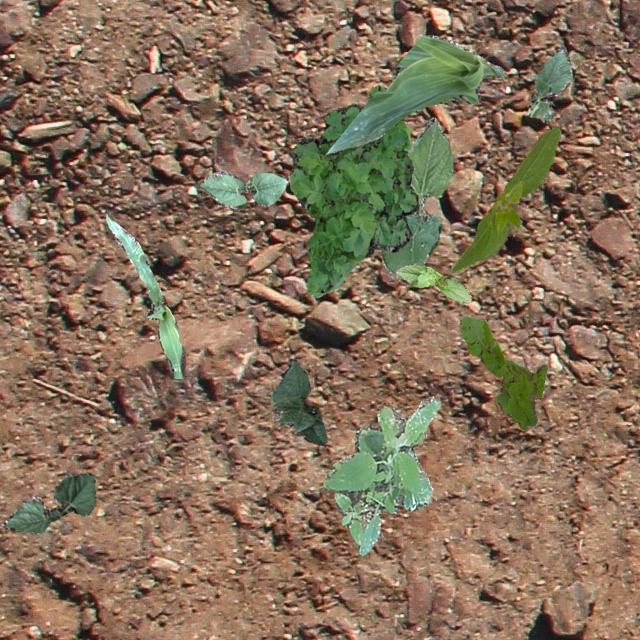crop: (324, 34, 506, 154), (450, 125, 560, 274), (104, 215, 184, 378), (380, 116, 452, 278), (0, 472, 94, 532), (270, 358, 326, 444), (198, 170, 288, 208), (528, 46, 570, 122), (394, 264, 470, 302)
weed: (288, 84, 418, 296), (322, 396, 440, 554), (458, 316, 546, 428)
